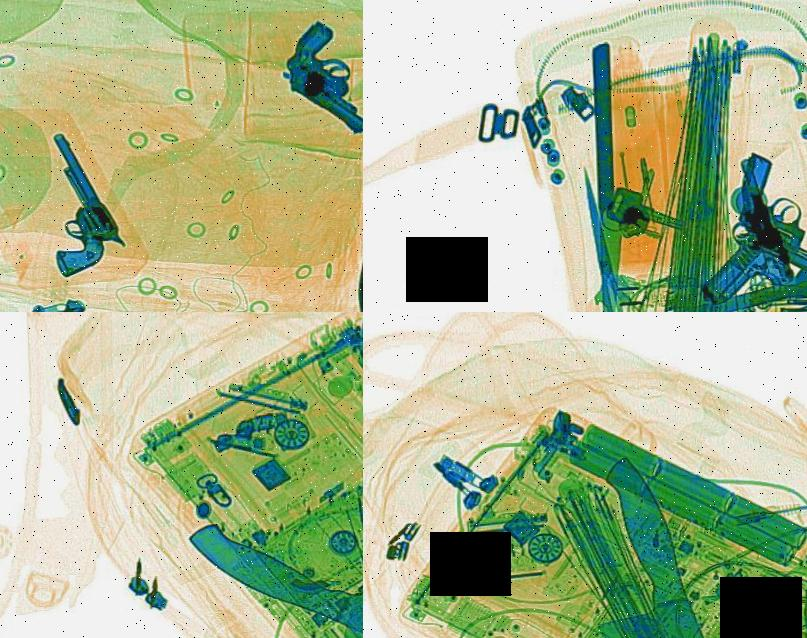Gun: (649, 155, 807, 305), (649, 144, 807, 286), (0, 127, 140, 281), (258, 14, 363, 135)
Knife: (537, 449, 767, 638), (175, 501, 363, 638), (331, 7, 363, 312), (591, 40, 622, 312), (577, 164, 628, 312)
Wrench: (596, 268, 807, 312)
